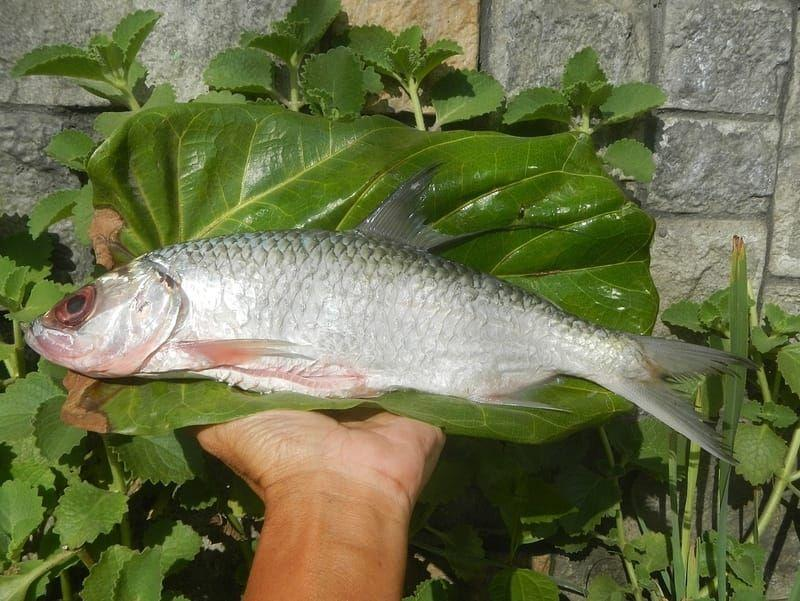Indo-Pacific Tarpon: (36, 165, 757, 475)
